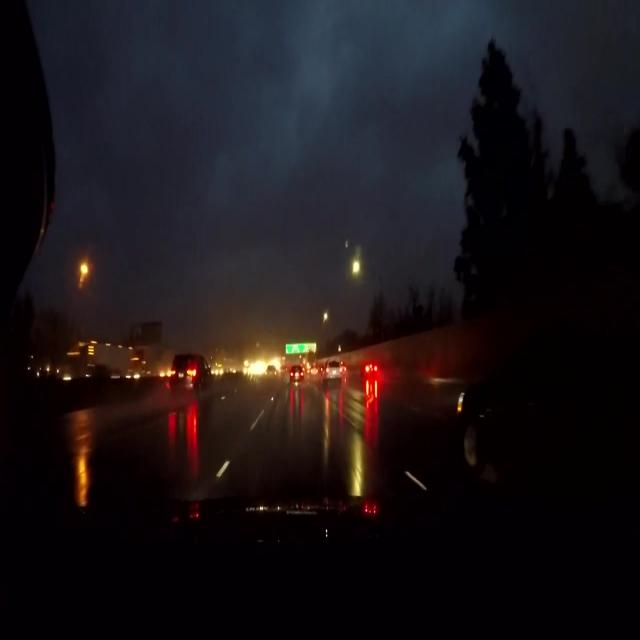Car: (457, 349, 623, 497), (170, 349, 212, 393), (320, 360, 341, 386)
